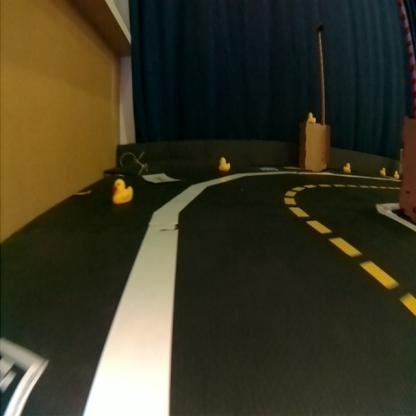Duckie: (113, 178, 134, 202), (219, 156, 231, 170), (344, 162, 352, 172), (309, 112, 316, 122), (394, 170, 400, 178), (380, 167, 386, 175)
QR code: (2, 342, 43, 416), (260, 164, 278, 172)
